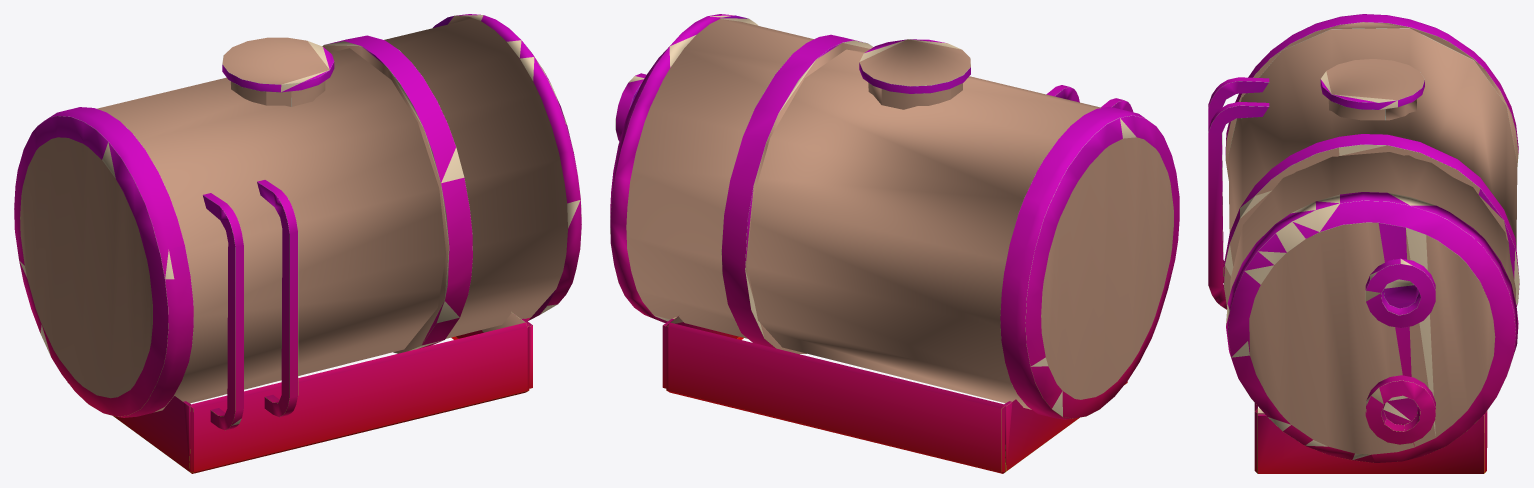
The model's file is wl_tank_horizontal.glb.
3 renders of one model, left to right at view 1: azimuth 30°, elevation 25°; view 2: azimuth 150°, elevation 25°; view 3: azimuth 270°, elevation 25°, orthographic. The views are drawn at different scales.
Parts seen in each view (by area): view 1: wl_tank_horizontal; view 2: wl_tank_horizontal; view 3: wl_tank_horizontal.
Boxes of the visible parts, x1,y1,x2,y2 form: wl_tank_horizontal: (14,14,581,473); wl_tank_horizontal: (610,14,1179,473); wl_tank_horizontal: (1208,14,1519,473).
Bounding box in the file's own units: 4.66 × 3.21 × 2.94.
